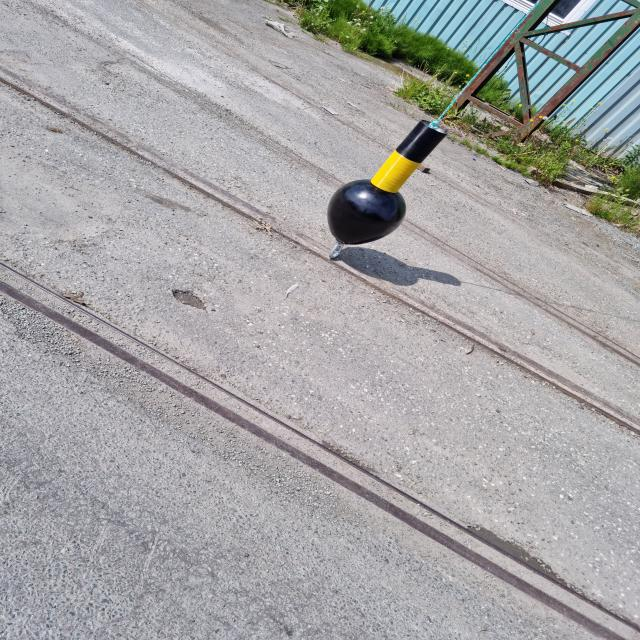east: (326, 120, 446, 246)
